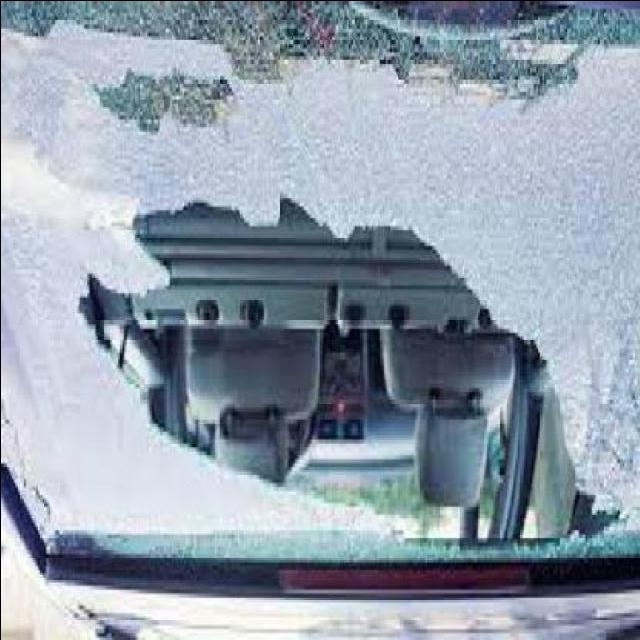Rear-windscreen-Damage: (2, 11, 640, 624)
